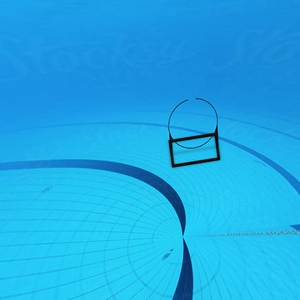circle: (164, 96, 226, 168)
